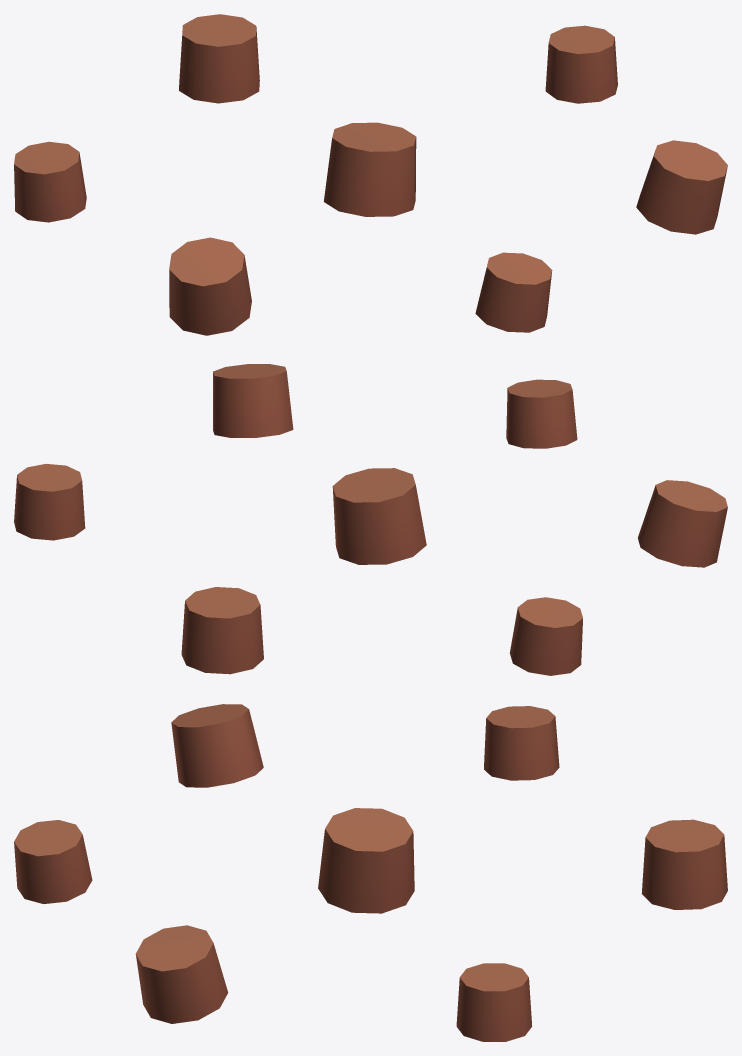
File: kay-tocos-cortados.gltf
3 views of the same model, one above another, from view 1: azimuth 30°, elevation 25°; view 2: azimuth 150°, elevation 25°; view 3: azimuth 270°, elevation 25° (orthographic). The views are drawn at different scales.
Parts seen in each view (by area): view 1: trees_B_cut; view 2: trees_B_cut; view 3: trees_B_cut.
Part boxes in pixels (x1=…): trees_B_cut: x1=14, y1=14, x2=727, y2=335; trees_B_cut: x1=14, y1=364, x2=727, y2=675; trees_B_cut: x1=14, y1=704, x2=727, y2=1041.
Bounding box in the file's own units: 7.01 × 0.8657 × 7.3.
Materials: 1 (1 with a texture image).
